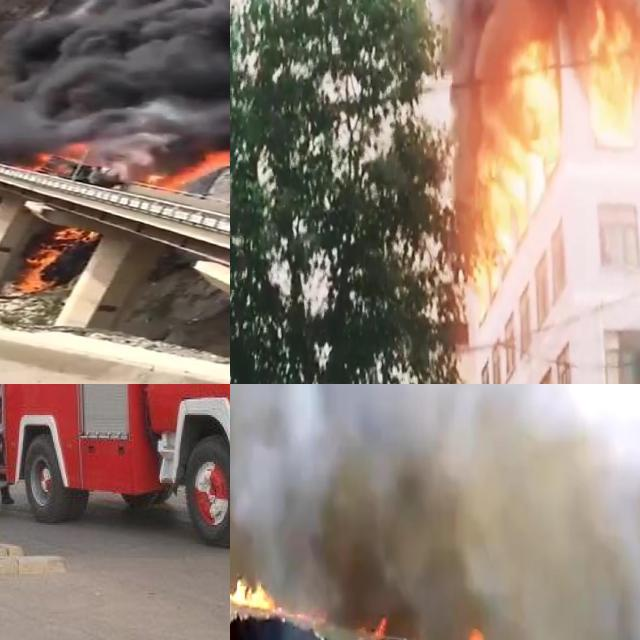fire: (458, 36, 562, 311), (582, 7, 640, 153), (230, 559, 322, 621), (13, 225, 92, 293), (148, 141, 230, 188), (27, 142, 92, 174), (464, 628, 491, 640)
smoke: (230, 384, 640, 611), (21, 0, 230, 139)
